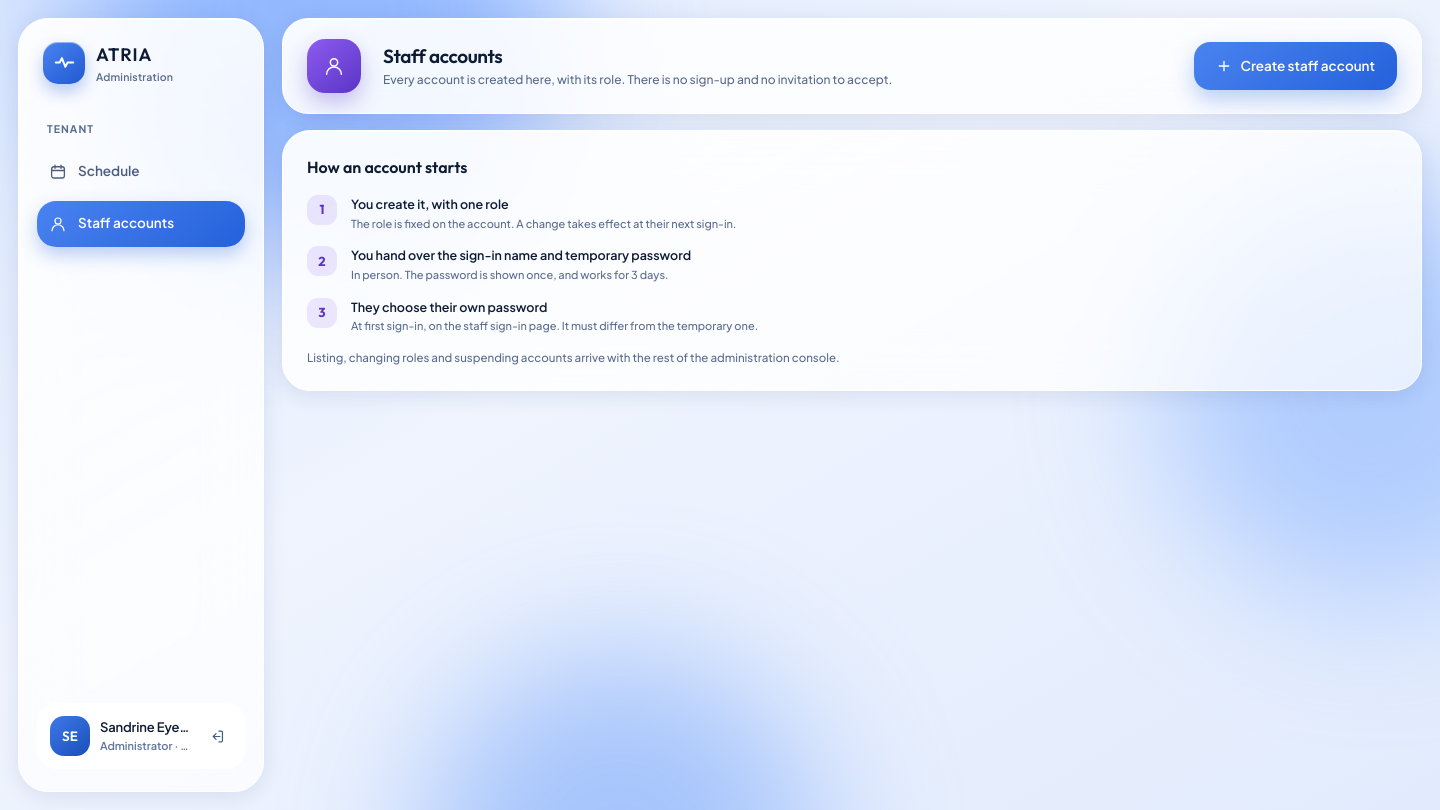
Staff accounts › says what is missing before anything is sent
The width and height of the screenshot is (1440, 810).
Click the button "Create staff account".
click(1296, 66)  # box [1194,42,1397,90]
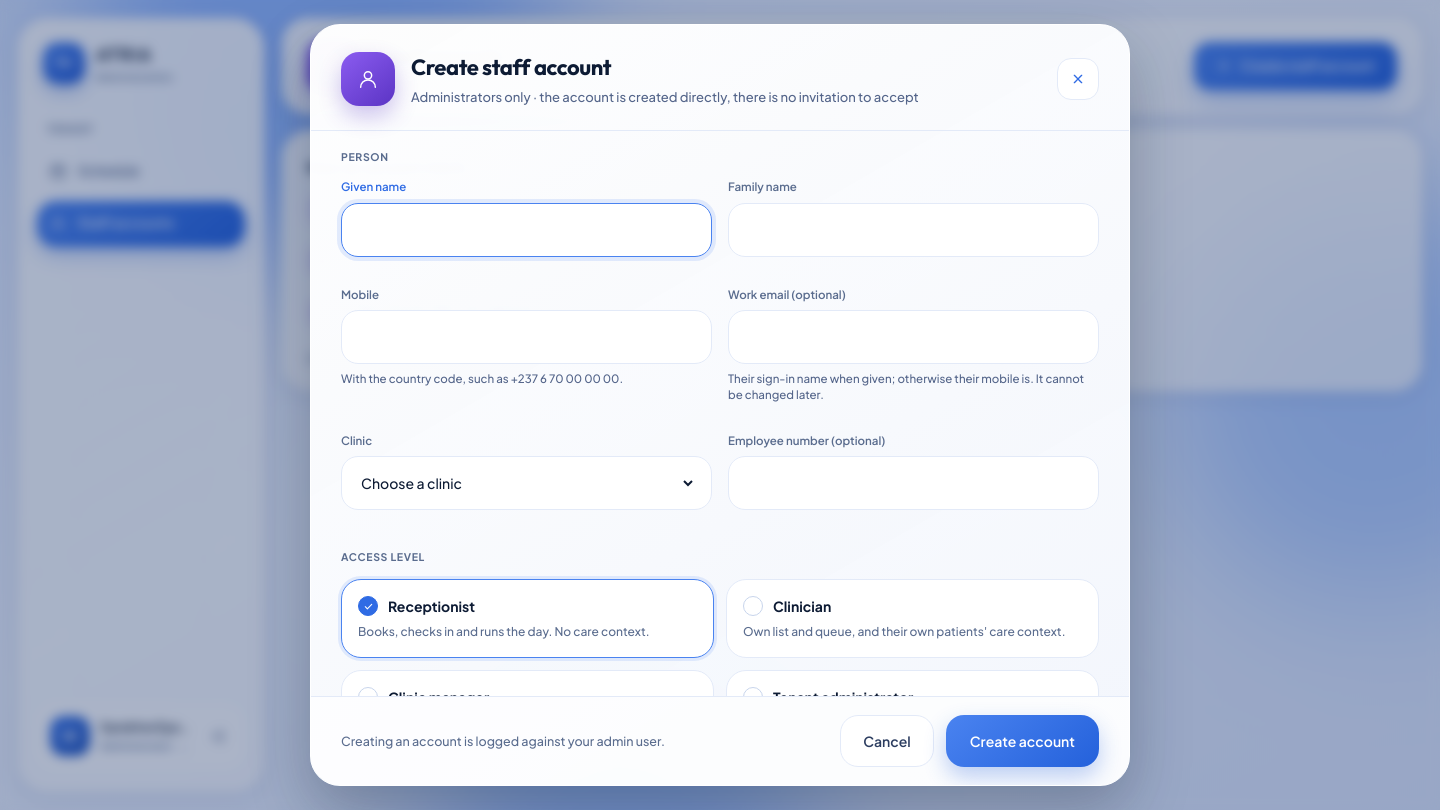
Click the button "Create account".
click(1022, 741)  # box [946,715,1099,767]
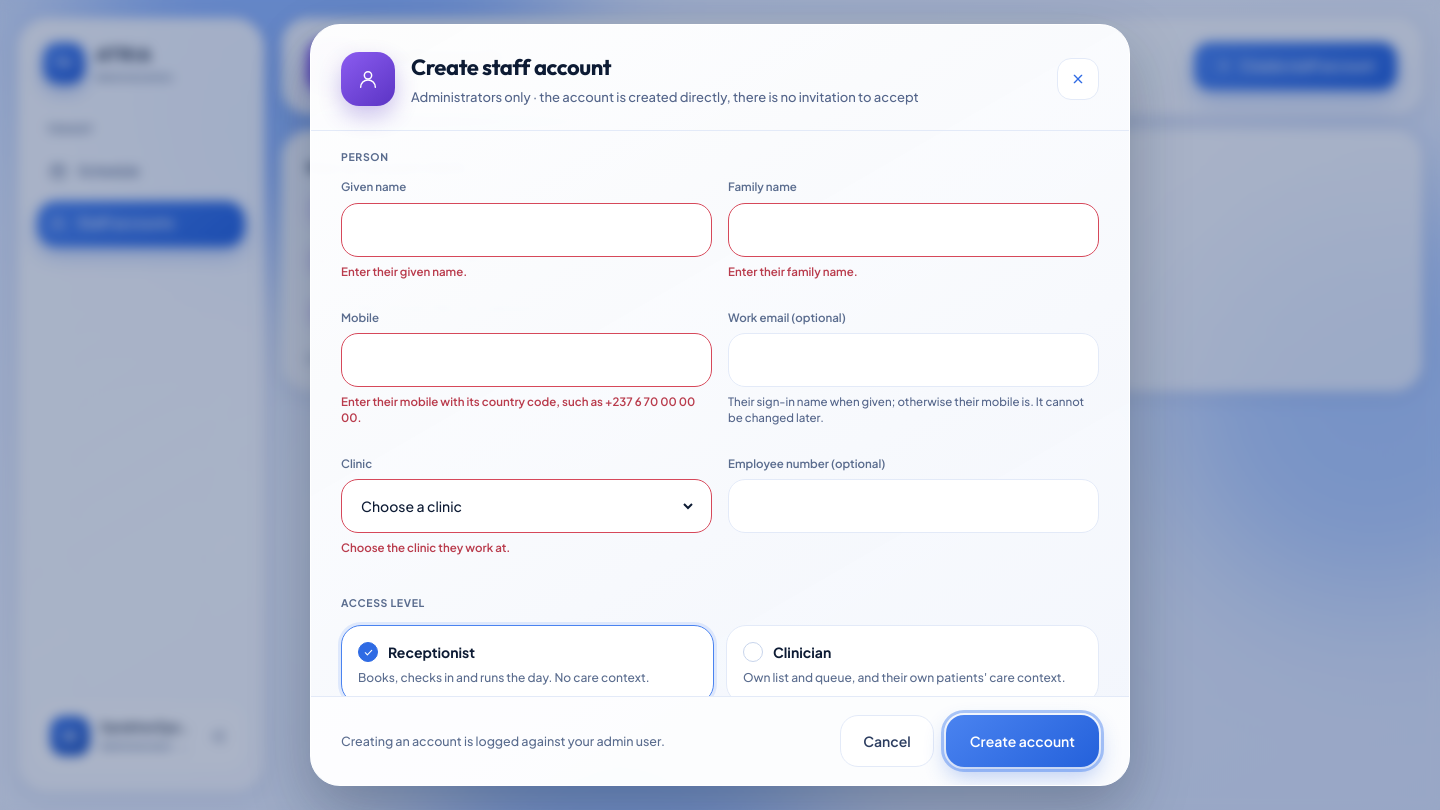
Expected: the dialog "Create staff account" shows "Enter their given name.", [341,264,467,278]
Expected: the dialog "Create staff account" shows "Choose the clinic they work at.", [341,540,510,555]
